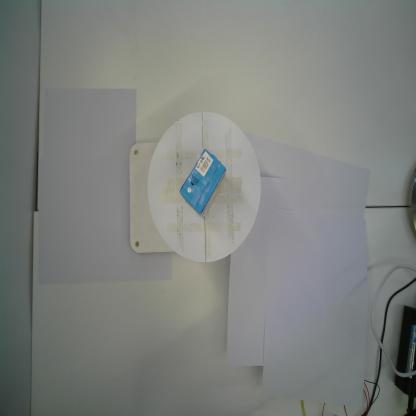Milk: (179, 149, 226, 218)
